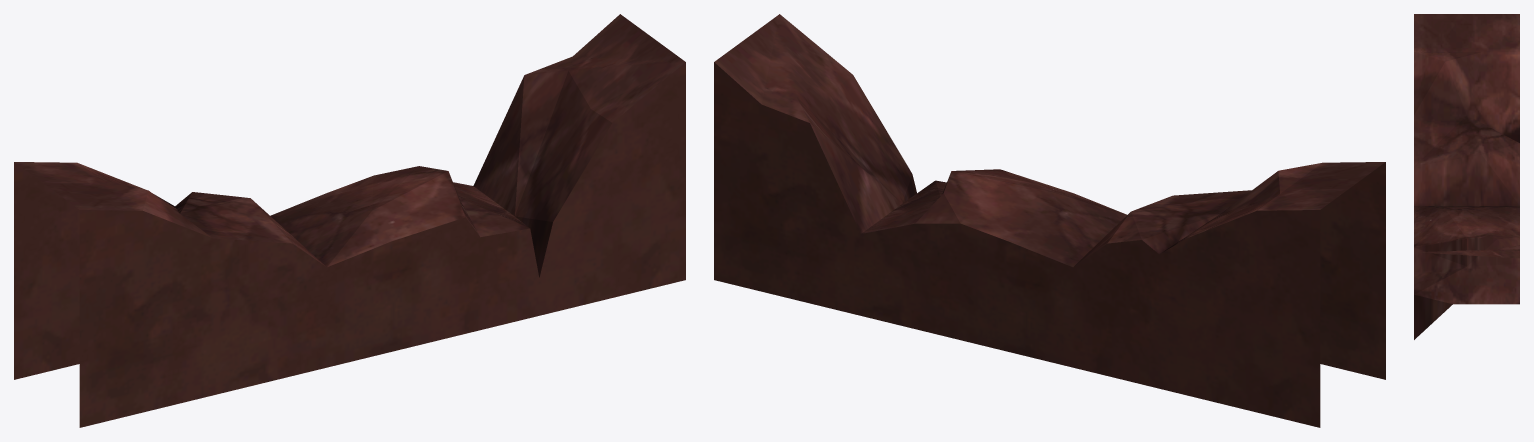
File: lava_broken_straight_02.fbx
3 renders of one model, left to right at view 1: azimuth 30°, elevation 25°; view 2: azimuth 150°, elevation 25°; view 3: azimuth 270°, elevation 25°, orthographic. The views are drawn at different scales.
Visible parts, largest first — view 1: obj1.021; view 2: obj1.021; view 3: obj1.021.
Boxes of the visible parts, x1=… form: obj1.021: x1=14, y1=14, x2=685, y2=427; obj1.021: x1=714, y1=14, x2=1385, y2=427; obj1.021: x1=1414, y1=14, x2=1519, y2=339.
Bounding box in the file's own units: 4 × 1.38 × 0.75.
